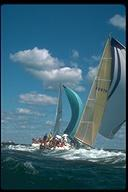sailboat: (38, 33, 127, 154), (28, 81, 87, 149)
sky: (2, 6, 94, 81)
water: (2, 151, 125, 191)
